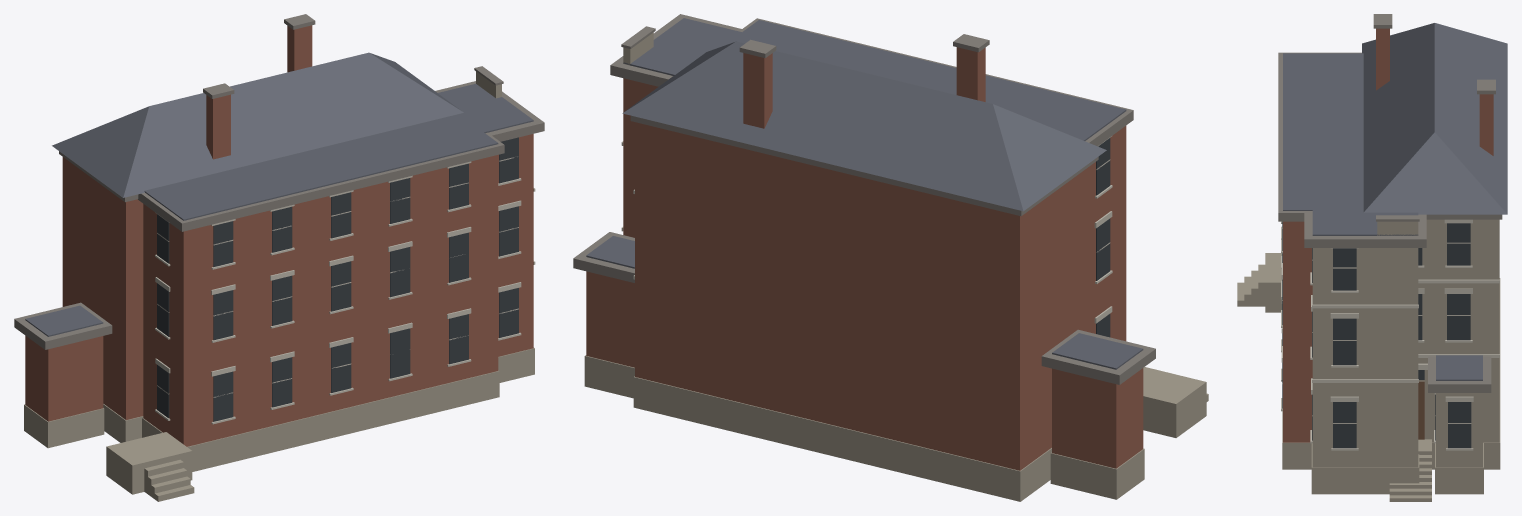
The model's file is house_1615_indiana__draft_1904.glb.
3 views of the same model, side by side, from view 1: azimuth 30°, elevation 25°; view 2: azimuth 150°, elevation 25°; view 3: azimuth 270°, elevation 25° (orthographic). The views are drawn at different scales.
Parts seen in each view (by area): view 1: house_1615_indiana__draft_1904; view 2: house_1615_indiana__draft_1904; view 3: house_1615_indiana__draft_1904.
Part boxes in pixels (x1=…): house_1615_indiana__draft_1904: x1=14, y1=14, x2=544, y2=501; house_1615_indiana__draft_1904: x1=573, y1=14, x2=1208, y2=501; house_1615_indiana__draft_1904: x1=1237, y1=14, x2=1507, y2=501.
Bounding box in the file's own units: 23.15 × 15.7 × 11.49.
